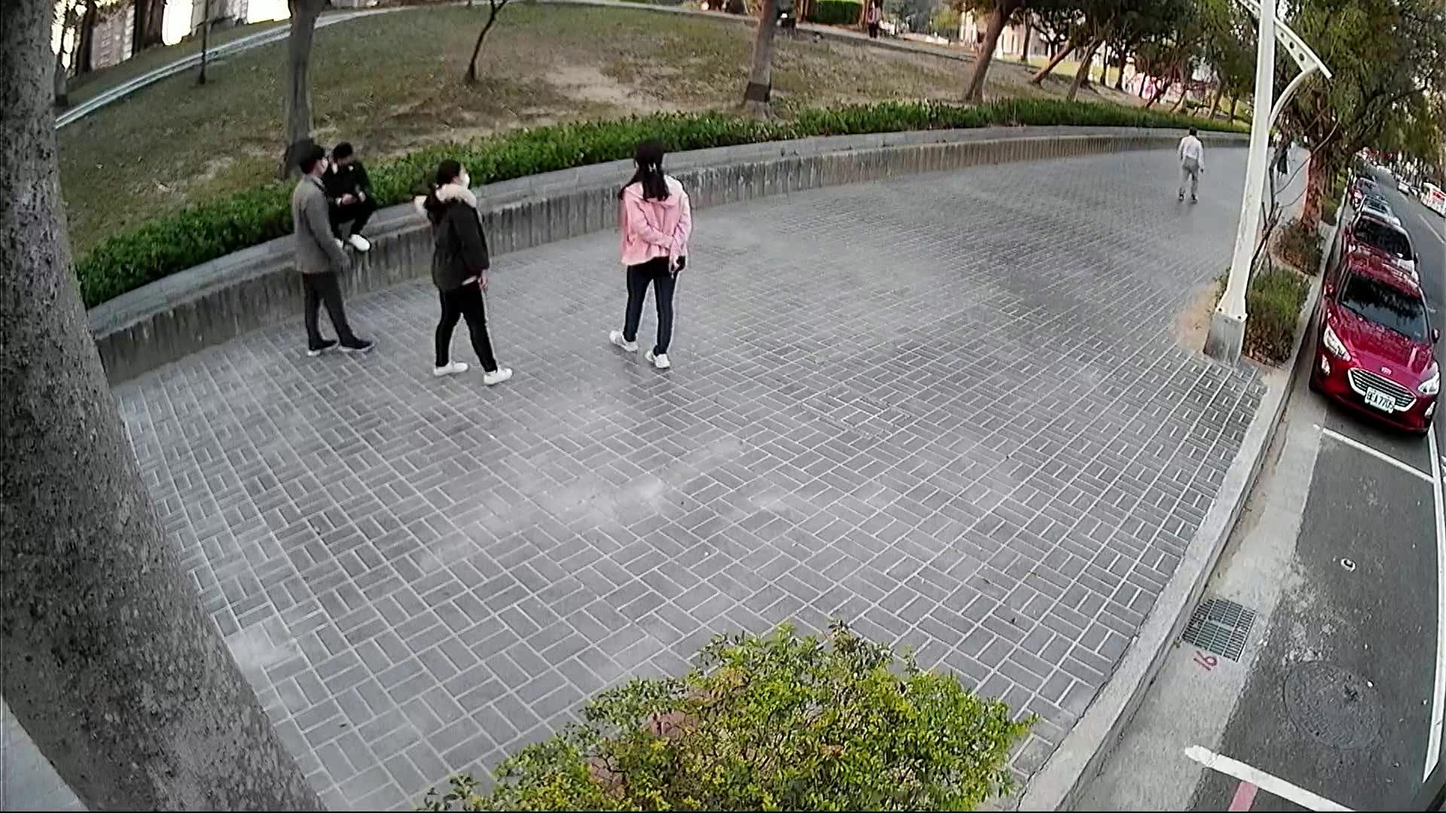person: (405, 154, 512, 391), (605, 132, 694, 374), (285, 137, 380, 361), (317, 133, 381, 259), (1171, 125, 1209, 208), (861, 0, 885, 40)
